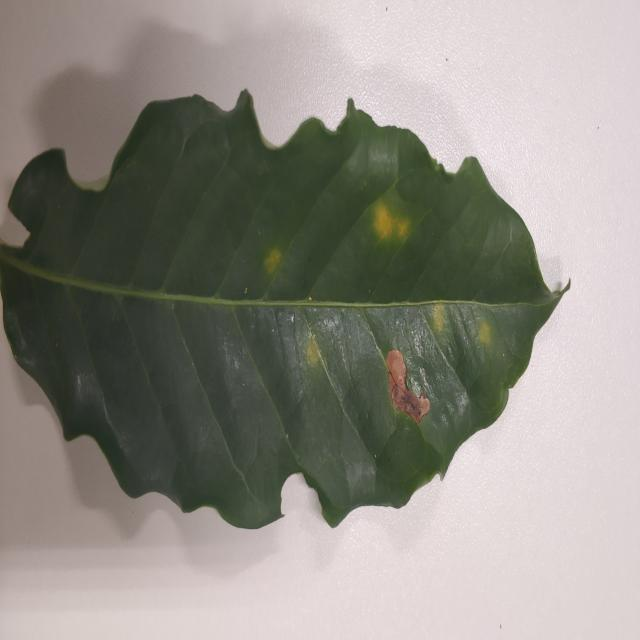Enfermedad-Roya: (0, 92, 570, 533)
